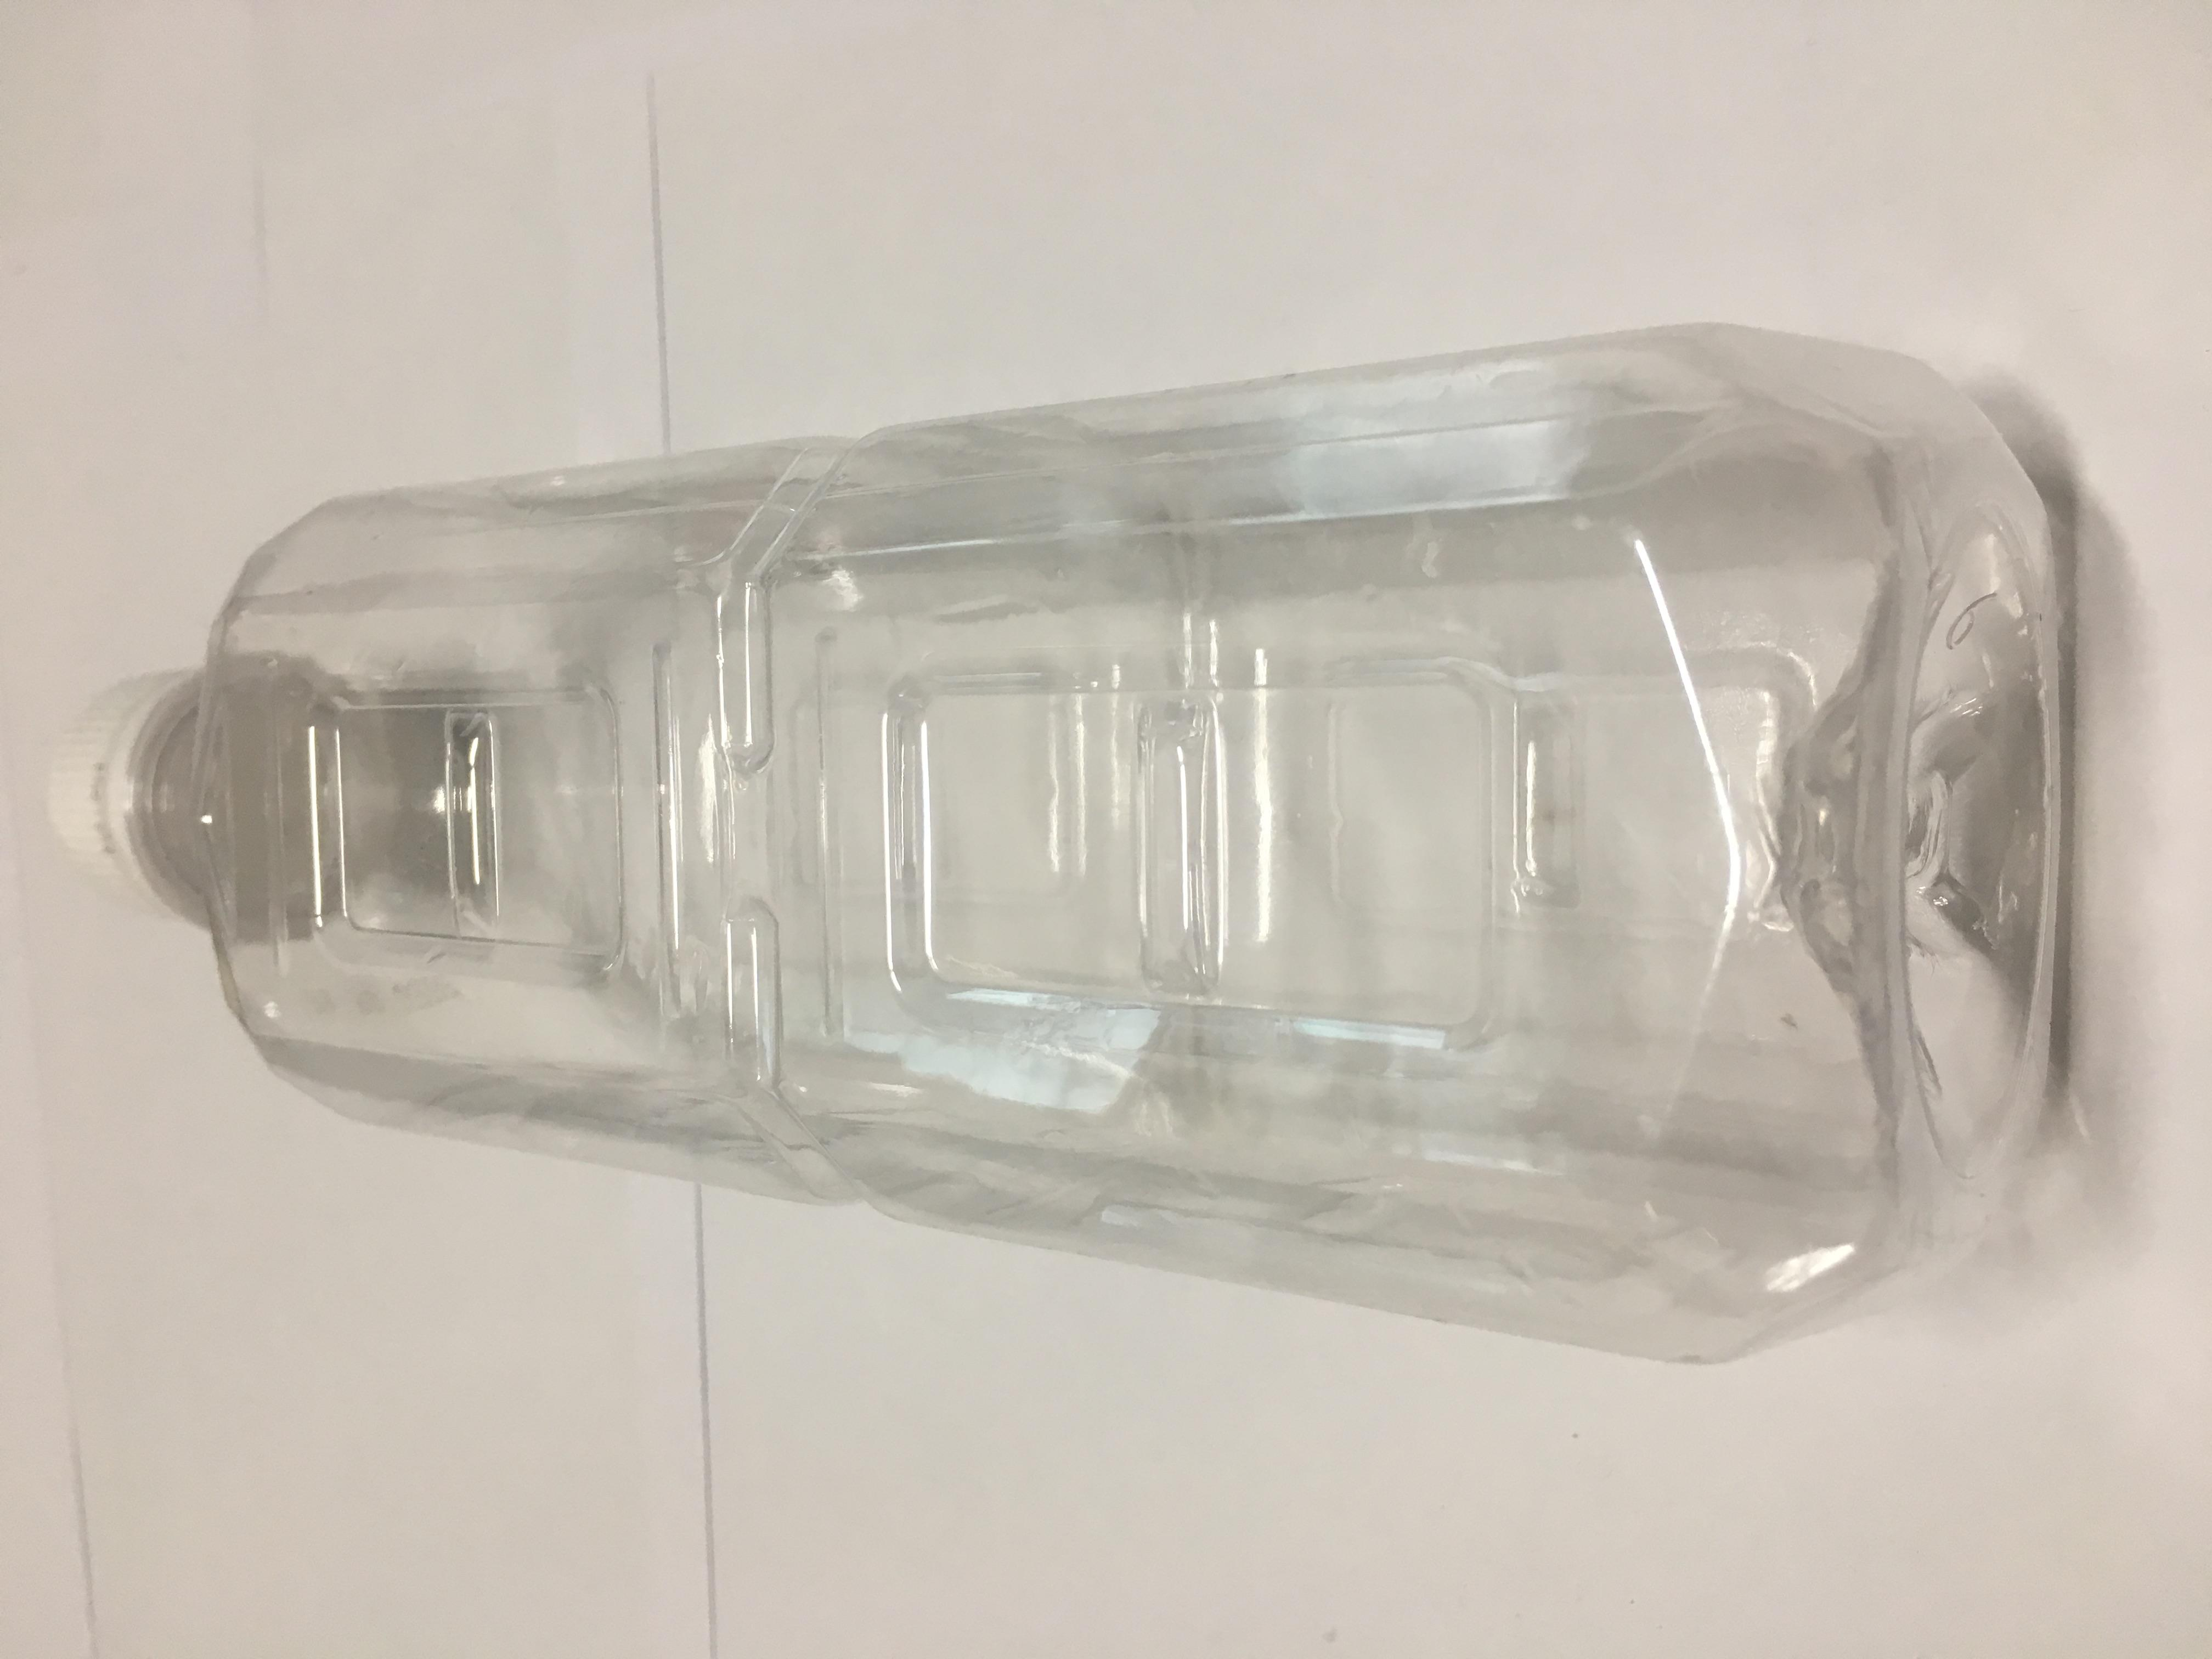bottle: (10, 0, 1770, 1563)
